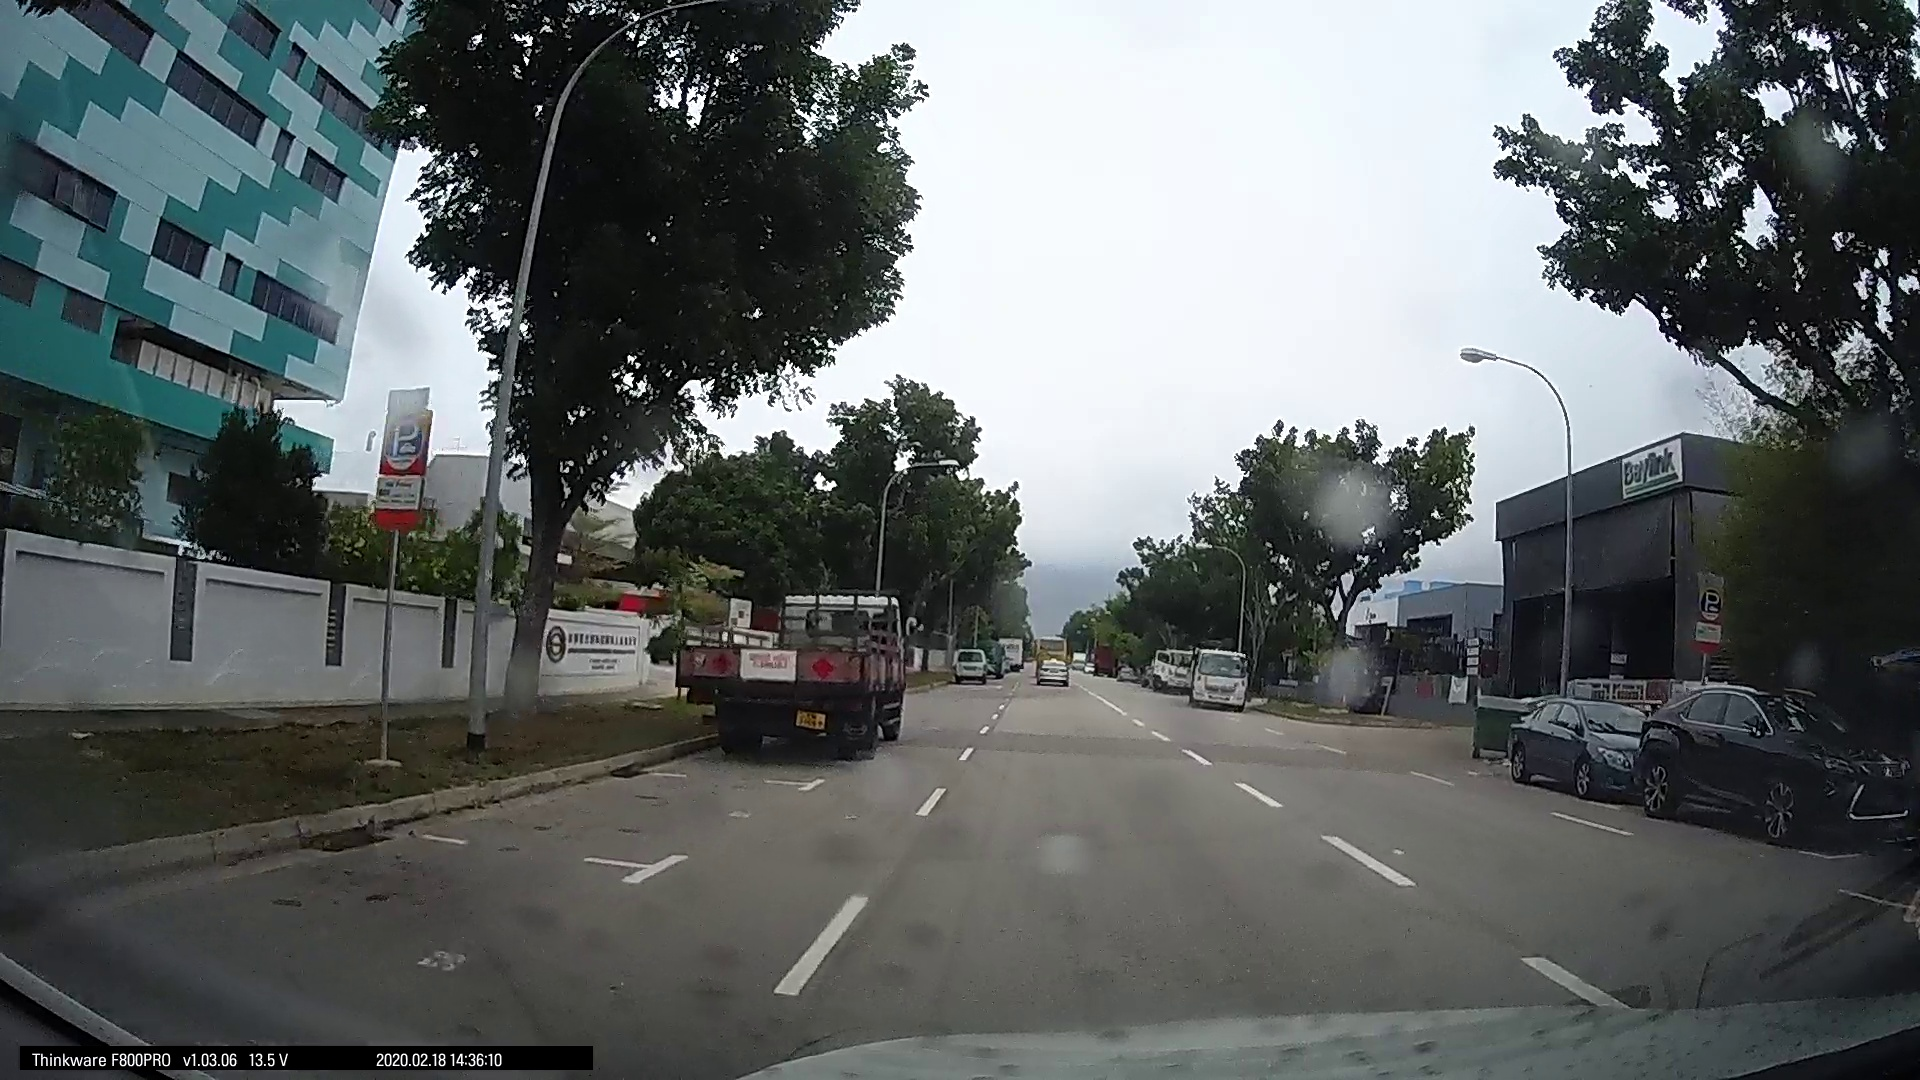Heavy Vehicle: (680, 580, 919, 758)
Light Vehicle: (1630, 674, 1905, 847), (1503, 690, 1651, 799), (1178, 642, 1249, 709), (947, 641, 992, 683), (1029, 646, 1069, 684)
